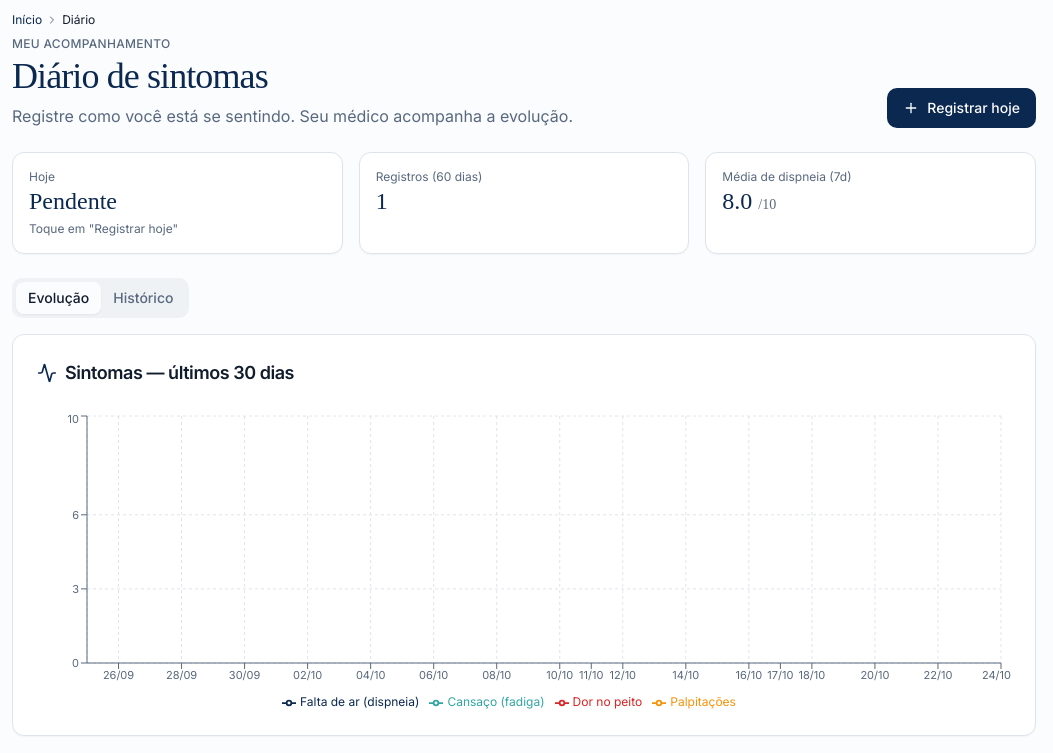
Test: PacienteDiario › lista os registros de sintomas no histórico
Expected: the text "Registros (60 dias)" is shown, x1=376 y1=169 x2=482 y2=184
Press the mouse on the tab "Histórico" at [143, 298], box x1=101 y1=282 x2=186 y2=314
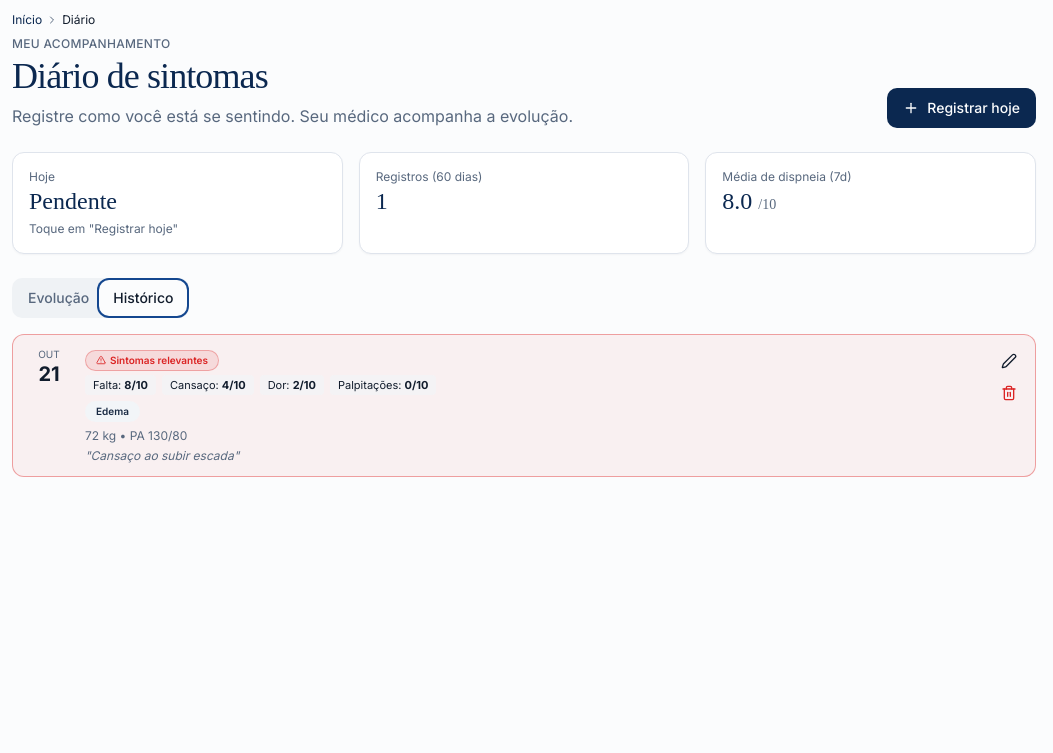
Result: the text "\"Cansaço ao subir escada\"" is shown at x1=85 y1=448 x2=239 y2=463
